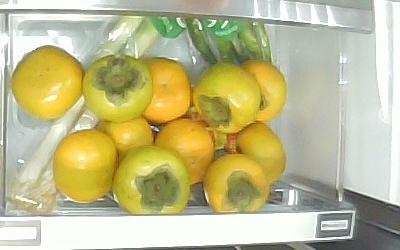persimmon: (112, 144, 190, 215), (11, 45, 85, 118), (192, 61, 260, 133), (82, 54, 153, 122), (52, 129, 118, 202), (154, 119, 214, 184), (203, 154, 269, 213), (139, 57, 190, 123), (236, 121, 287, 182), (94, 115, 153, 165), (237, 61, 285, 122)
